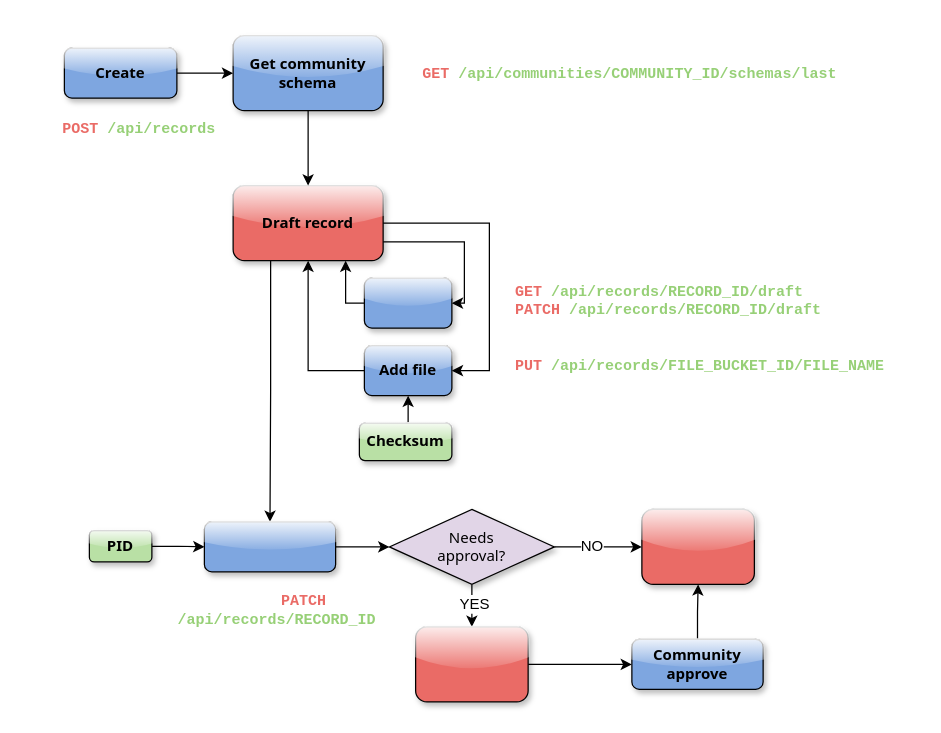
The diagram is 941 pixels wide and 733 high, and some of its shapes have lost their labels. Each missing label, with the centre of its shape:
"Add metadata" goes at (408,304).
"Commit" goes at (270,548).
"Published record" goes at (699,548).
"Submitted record" goes at (472,666).
